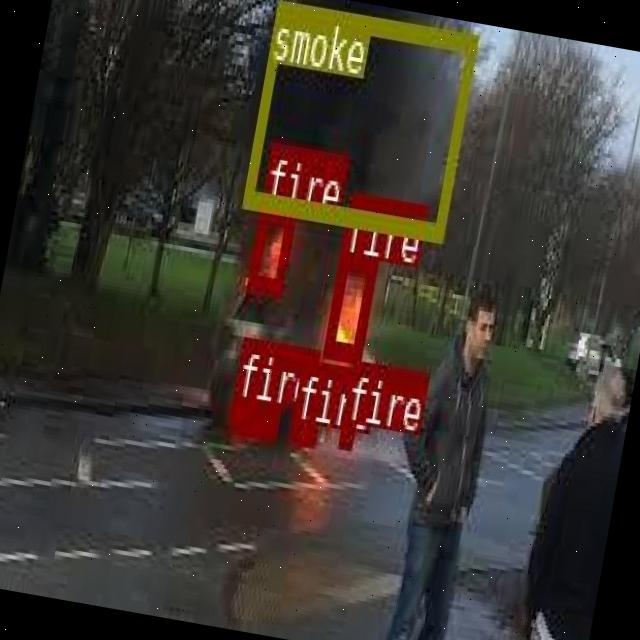fire: (322, 254, 376, 358), (246, 201, 296, 293), (228, 397, 278, 435), (287, 418, 316, 442), (338, 418, 355, 444)
smoke: (240, 0, 477, 238)
